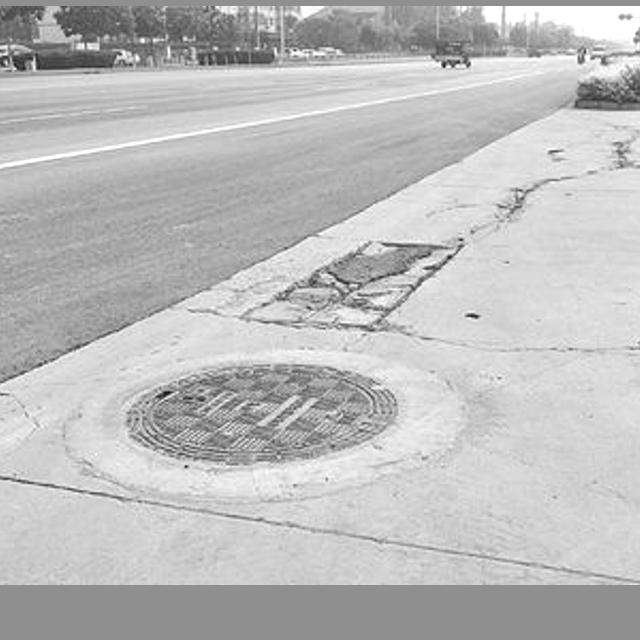good: (51, 343, 463, 502)
